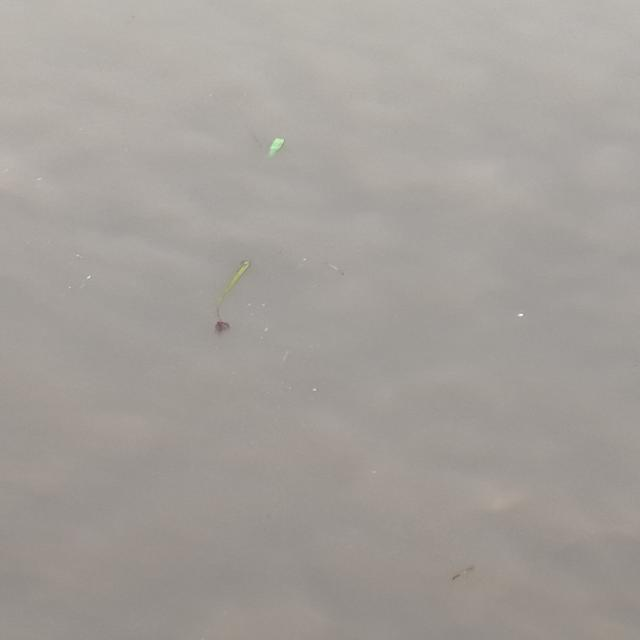Organic Debris: (206, 255, 256, 335), (448, 566, 478, 584)
Plastic: (261, 135, 287, 161)
